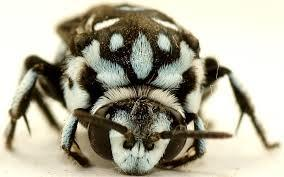Thyreus: (10, 0, 261, 177)
